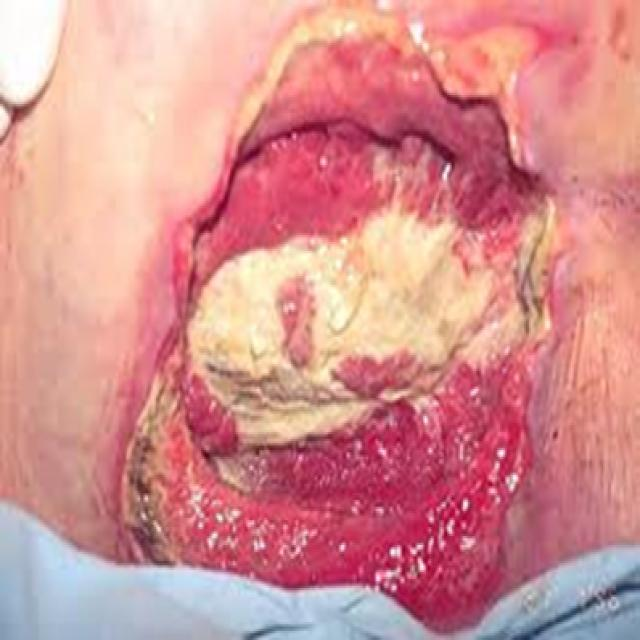stage-4: (124, 0, 556, 629)
